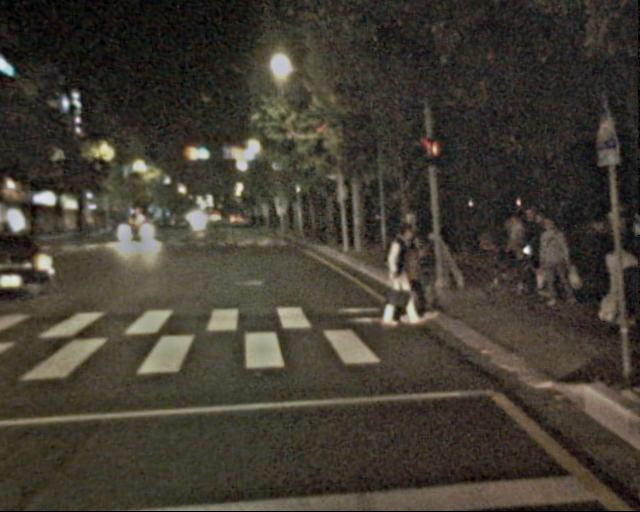person: (380, 222, 424, 330), (506, 209, 561, 295), (596, 231, 637, 330), (603, 202, 640, 304), (534, 216, 572, 309)
